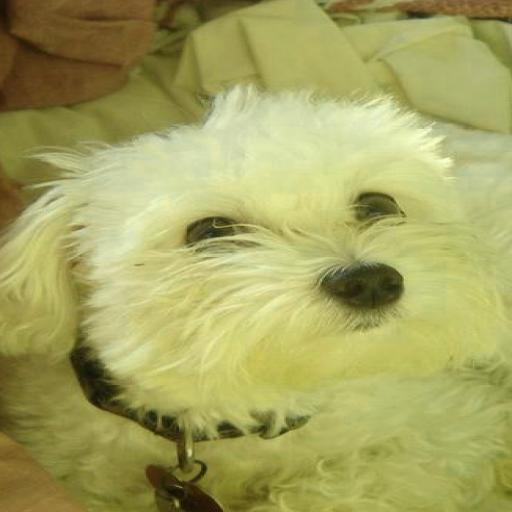dog_face: (0, 94, 495, 384)
